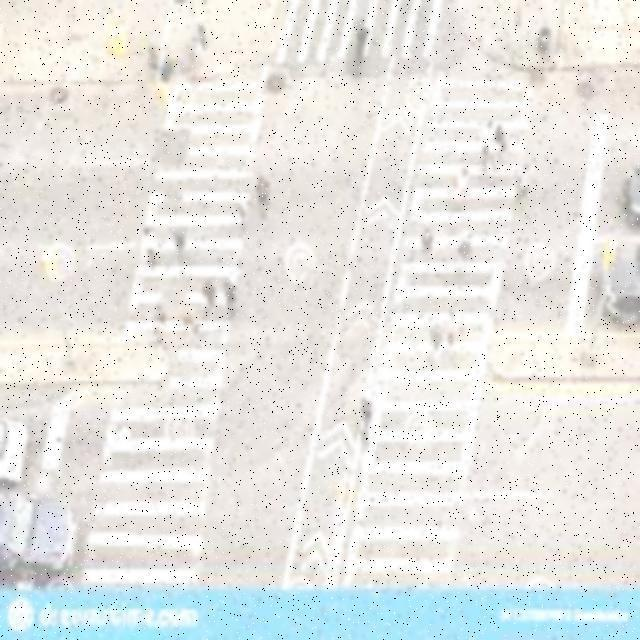Pedestrian crosswalk: (97, 68, 266, 584), (363, 74, 526, 586), (278, 0, 474, 68)
